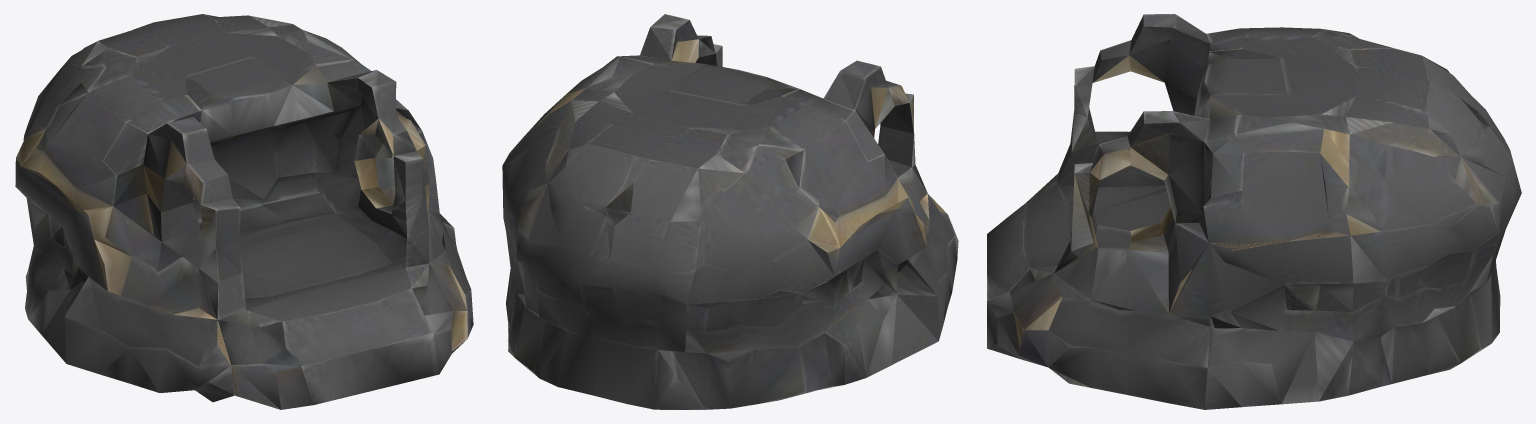
File: imperial_point_defence_turret__turning_house_lod2.glb
The picture shows the model from 3 angles, left to right: view 1: azimuth 30°, elevation 25°; view 2: azimuth 150°, elevation 25°; view 3: azimuth 270°, elevation 25°; orthographic projection. The views are drawn at different scales.
Parts seen in each view (by area): view 1: mesh_node; view 2: mesh_node; view 3: mesh_node.
Boxes of the visible parts, x1=… form: mesh_node: x1=15, y1=14, x2=473, y2=409; mesh_node: x1=502, y1=14, x2=958, y2=409; mesh_node: x1=987, y1=14, x2=1521, y2=409.
Bounding box in the file's own units: 5.63 × 3.18 × 6.4.
Materials: 1 (1 with a texture image).
